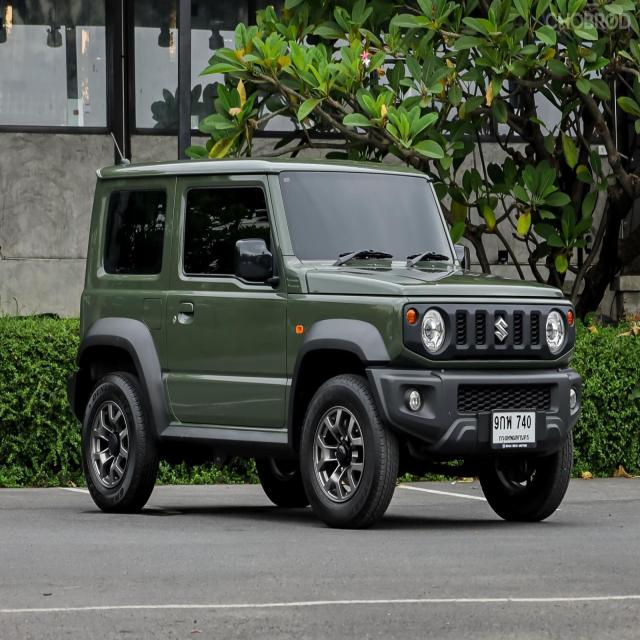license_plate: (490, 408, 538, 449)
